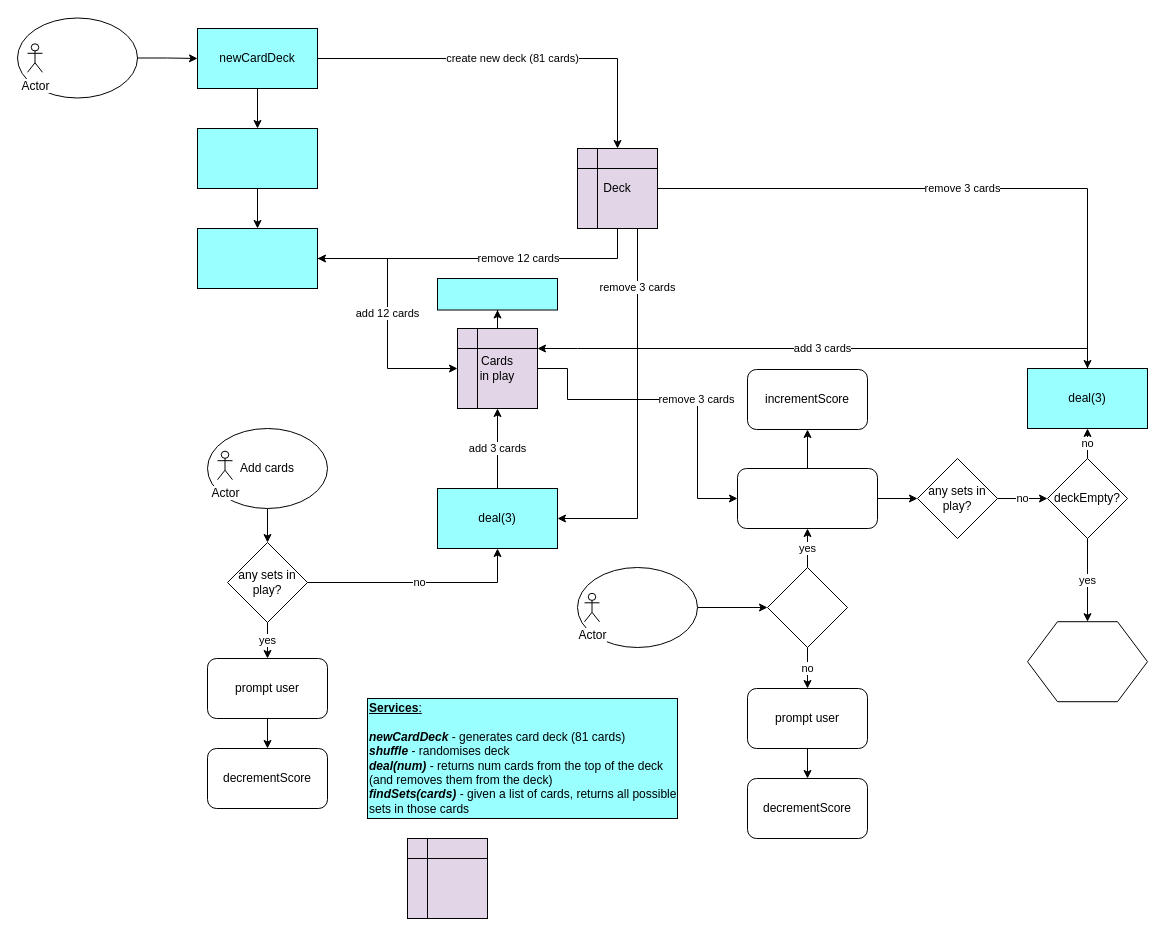
Some shapes in this 1165 by 936 pixel diagram are drawn without their labels. Each missing label, with the box of its shape:
deal(12): (196, 228, 318, 288)
End game Display score: (1026, 621, 1148, 702)
findSets: (436, 278, 558, 310)
isSet?: (766, 566, 848, 648)
New Game: (16, 17, 138, 98)
removeCardsFromPlay: (736, 468, 878, 528)
Select 3 cards: (576, 566, 698, 648)
shuffle: (196, 128, 318, 188)
State: Deck Cards in play: (406, 838, 488, 918)
